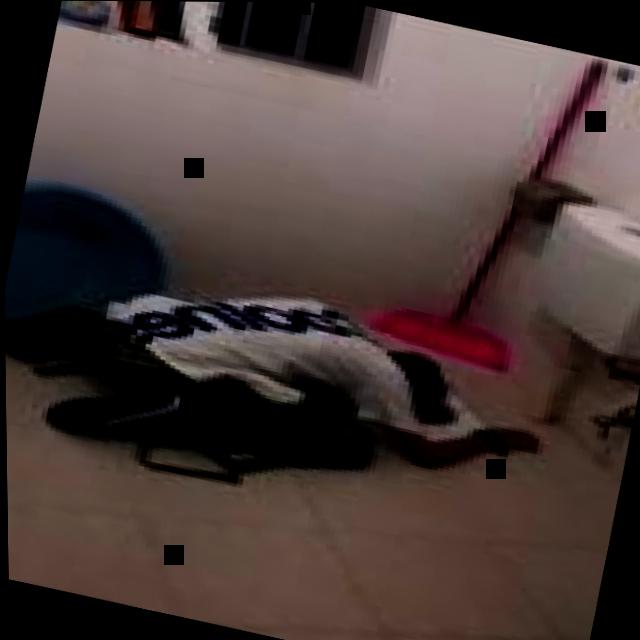Fall-Detected: (11, 234, 543, 538)
